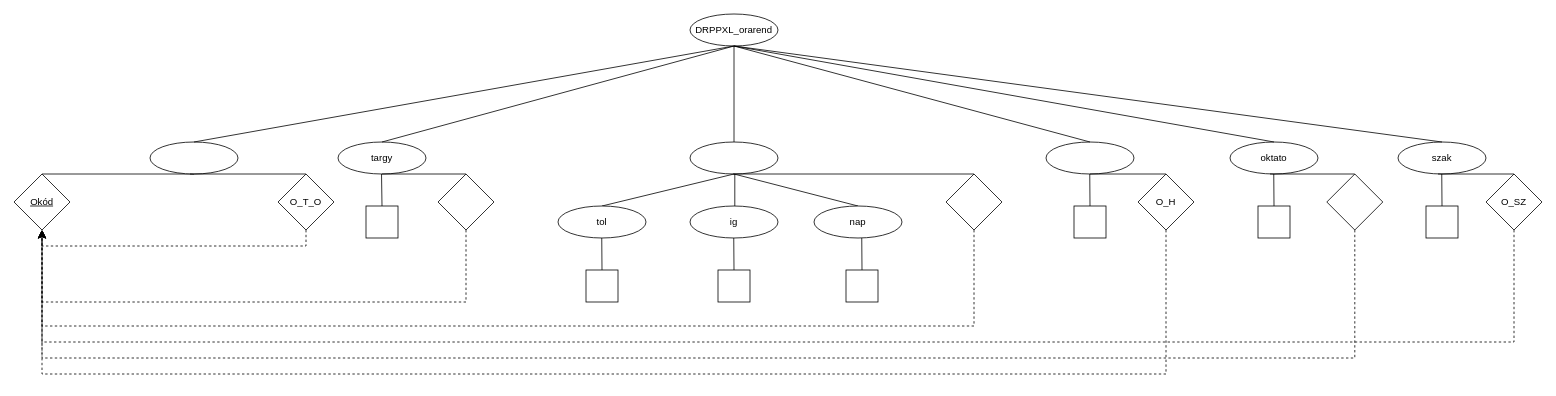
Image size: 1556x396. Some labels were removed from this diagram. The shapes that lost their labels are listed below. From the top down, each one's centre as x and y in pixels, then its label:
(x=193, y=157): ora
(x=733, y=157): idopont
(x=1089, y=157): helyszin
(x=465, y=201): O_T
(x=973, y=201): O_I
(x=1354, y=201): O_O
